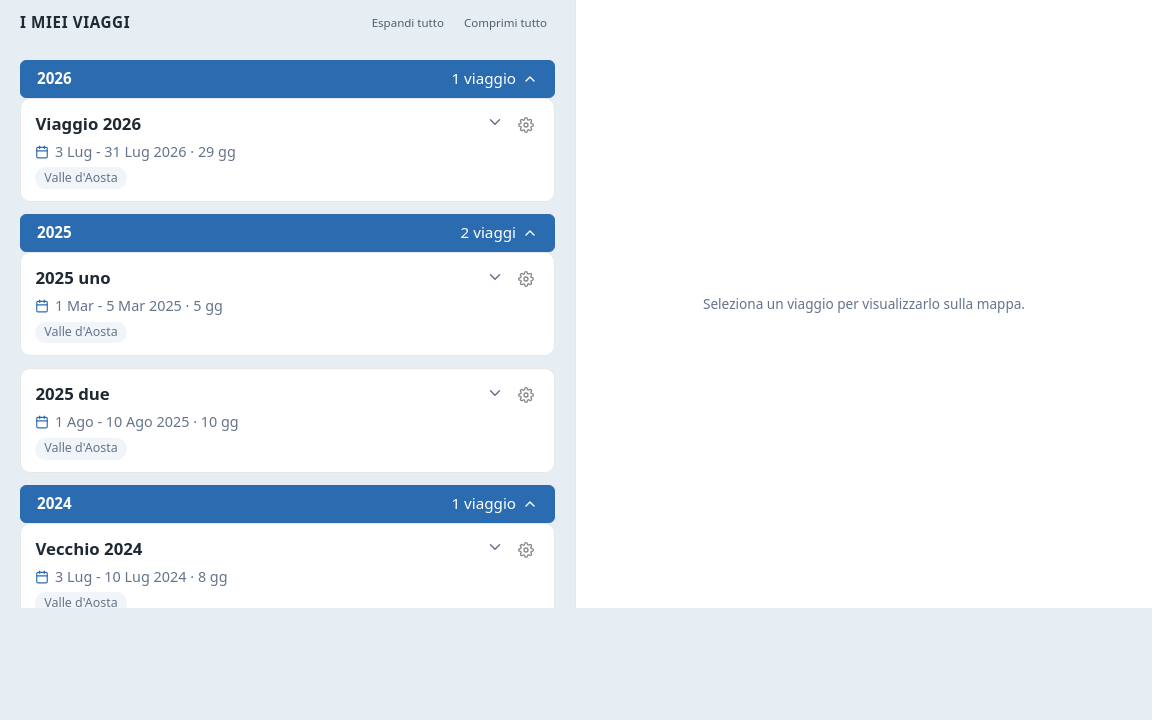
TripsDashboard — year grouping accordion › expands and collapses all years from the sidebar header commands
The width and height of the screenshot is (1152, 720).
Click the button with aria-label "Comprimi tutti gli anni" at (505, 22), box top-left (456, 10), bottom-right (555, 35)
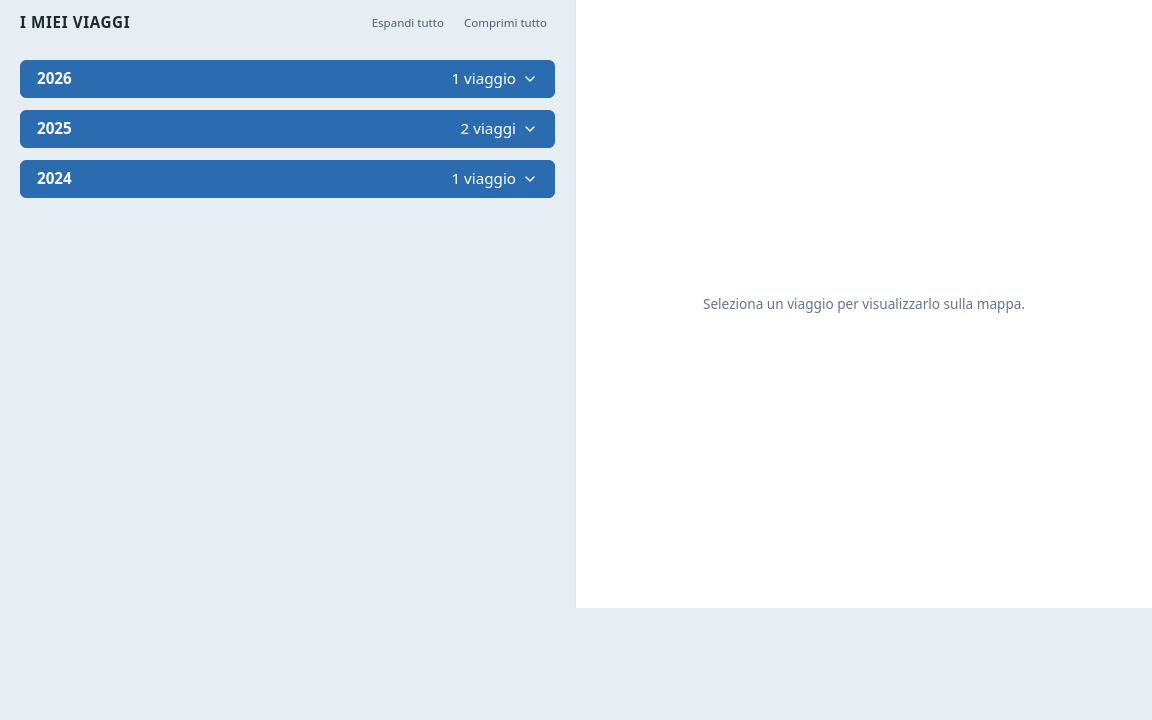
Click the button with aria-label "Espandi tutti gli anni" at (408, 22), box top-left (364, 10), bottom-right (452, 35)
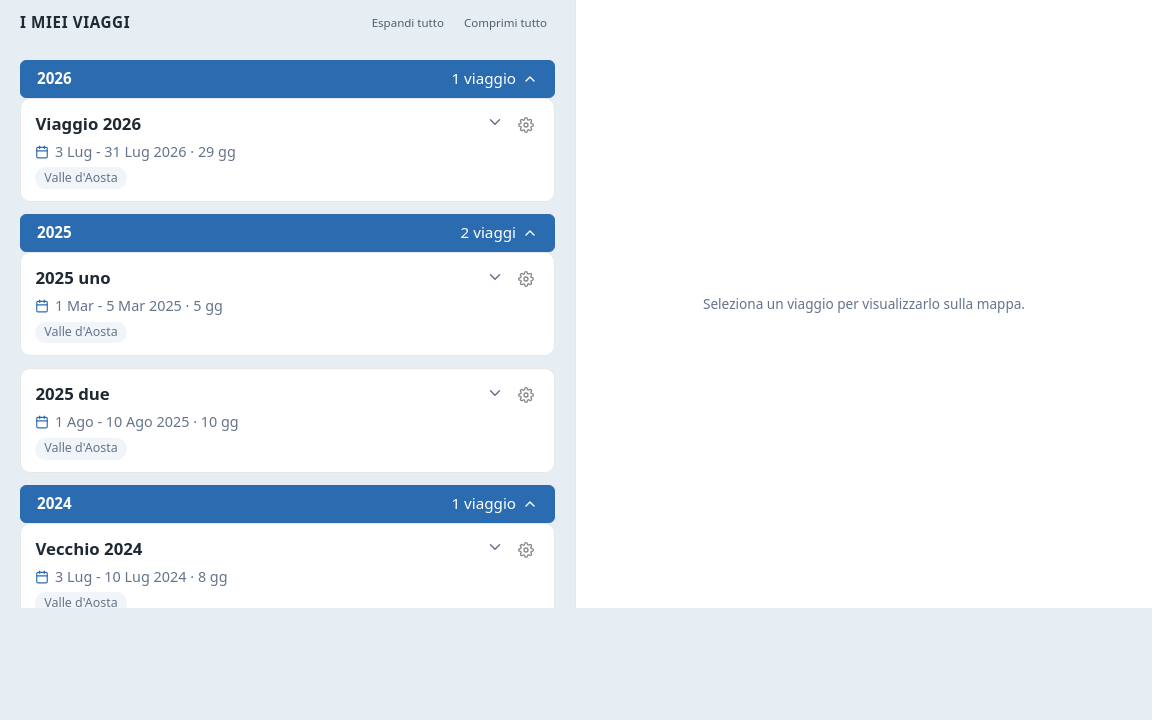
Expected: the element showing "Vecchio 2024 3 Lug - 10 Lug 2024 · 8 gg Valle d'Aosta" is shown, top-left (20, 523), bottom-right (555, 608)
Expected: the element showing "2025 uno 1 Mar - 5 Mar 2025 · 5 gg Valle d'Aosta" is shown, top-left (20, 252), bottom-right (555, 356)
